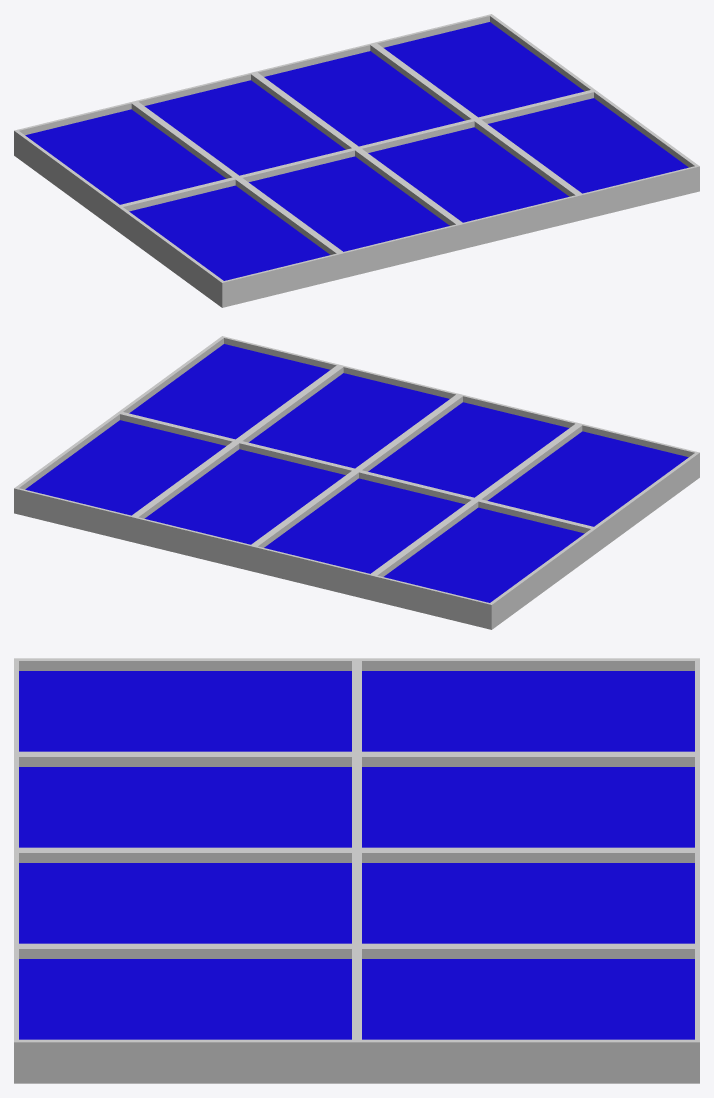
File: solarpanel.fbx
The picture shows the model from 3 angles, top to bottom: view 1: azimuth 30°, elevation 25°; view 2: azimuth 150°, elevation 25°; view 3: azimuth 270°, elevation 25°; orthographic projection. The views are drawn at different scales.
Visible parts, largest first — view 1: Cube; view 2: Cube; view 3: Cube.
Boxes of the visible parts, x1,y1,x2,y2 form: Cube: (14, 14, 699, 307); Cube: (14, 336, 699, 629); Cube: (14, 658, 699, 1083).
Size of the model in its own units: 200 by 10 by 151.
